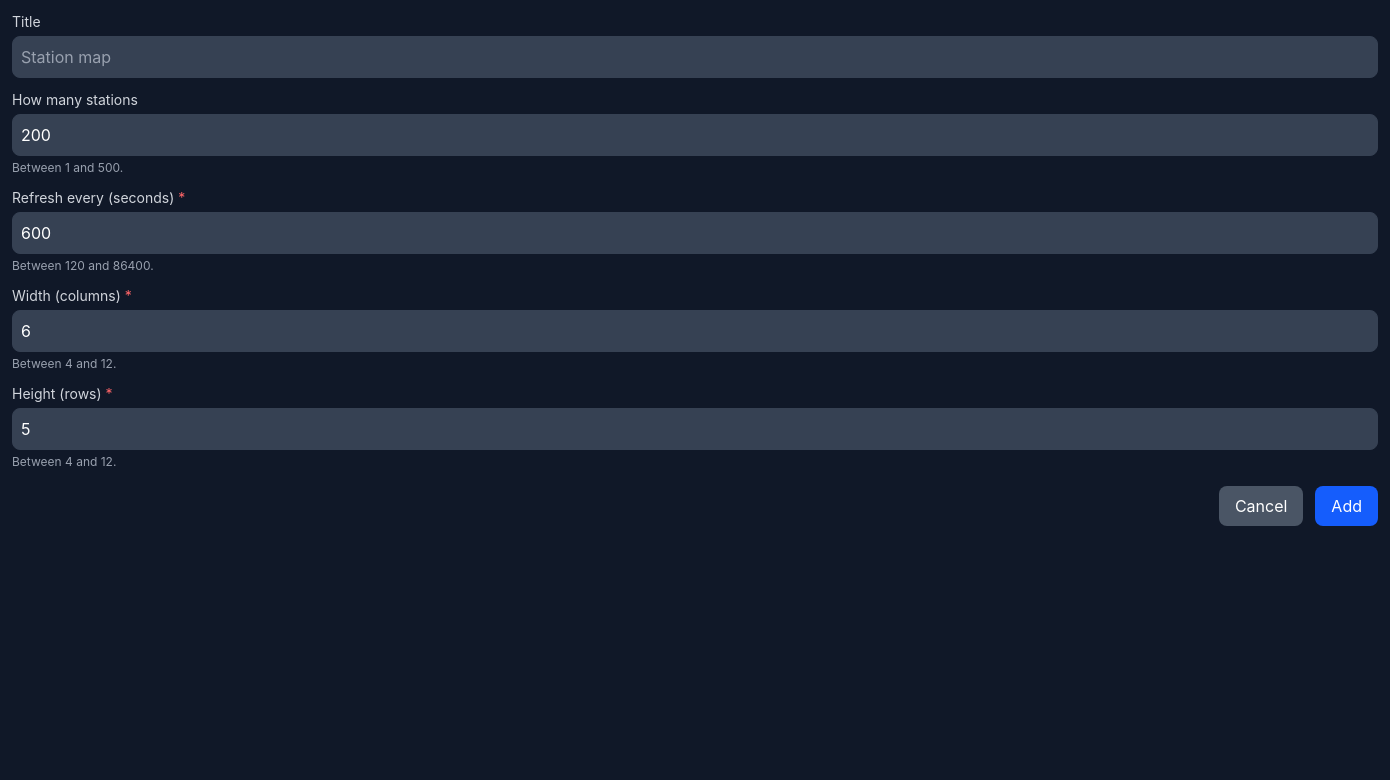
Scenario: refuses a limit of 0
The width and height of the screenshot is (1390, 780).
Replace the text in the number field labelled "How many stations" with "0" at coordinates (695, 135), box [12,114,1378,156]
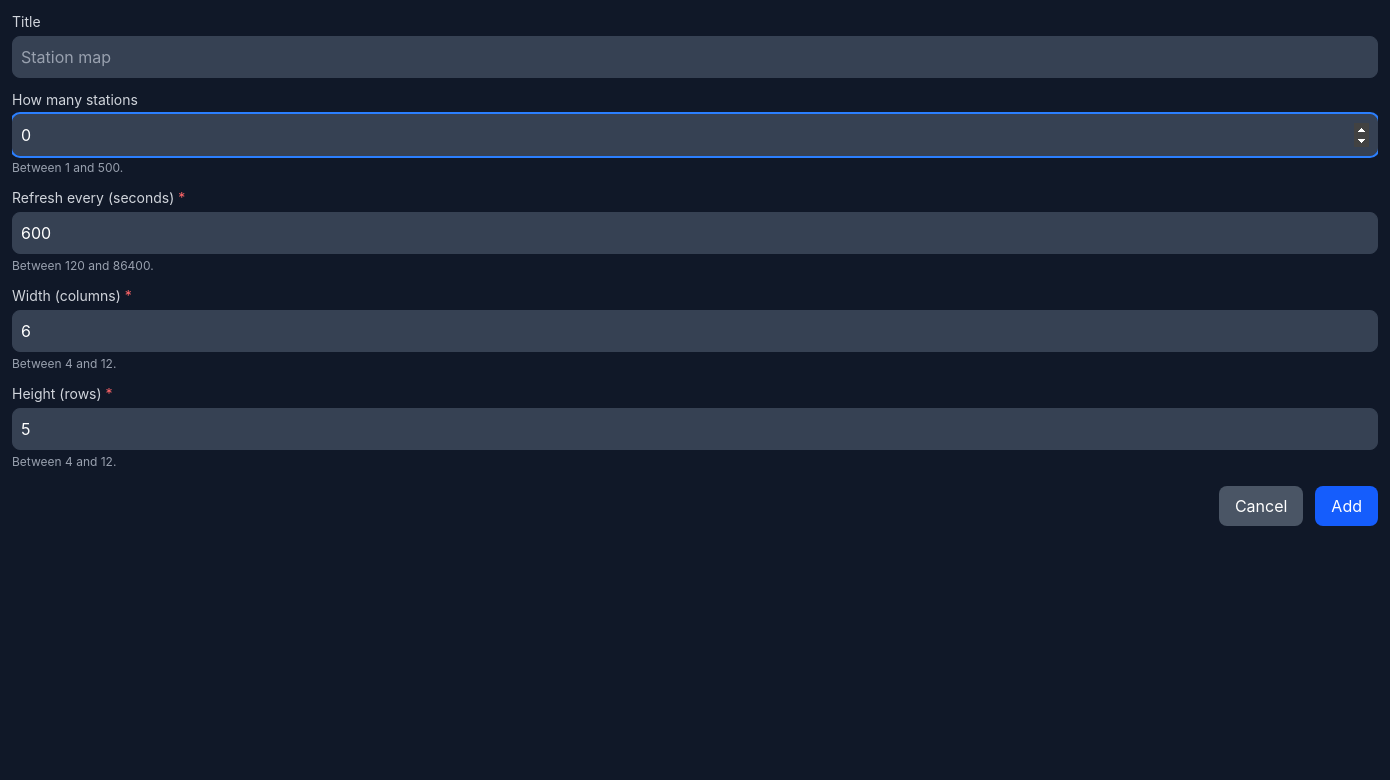
Click the button "Add" at coordinates (1347, 506), box [1315,486,1378,526]
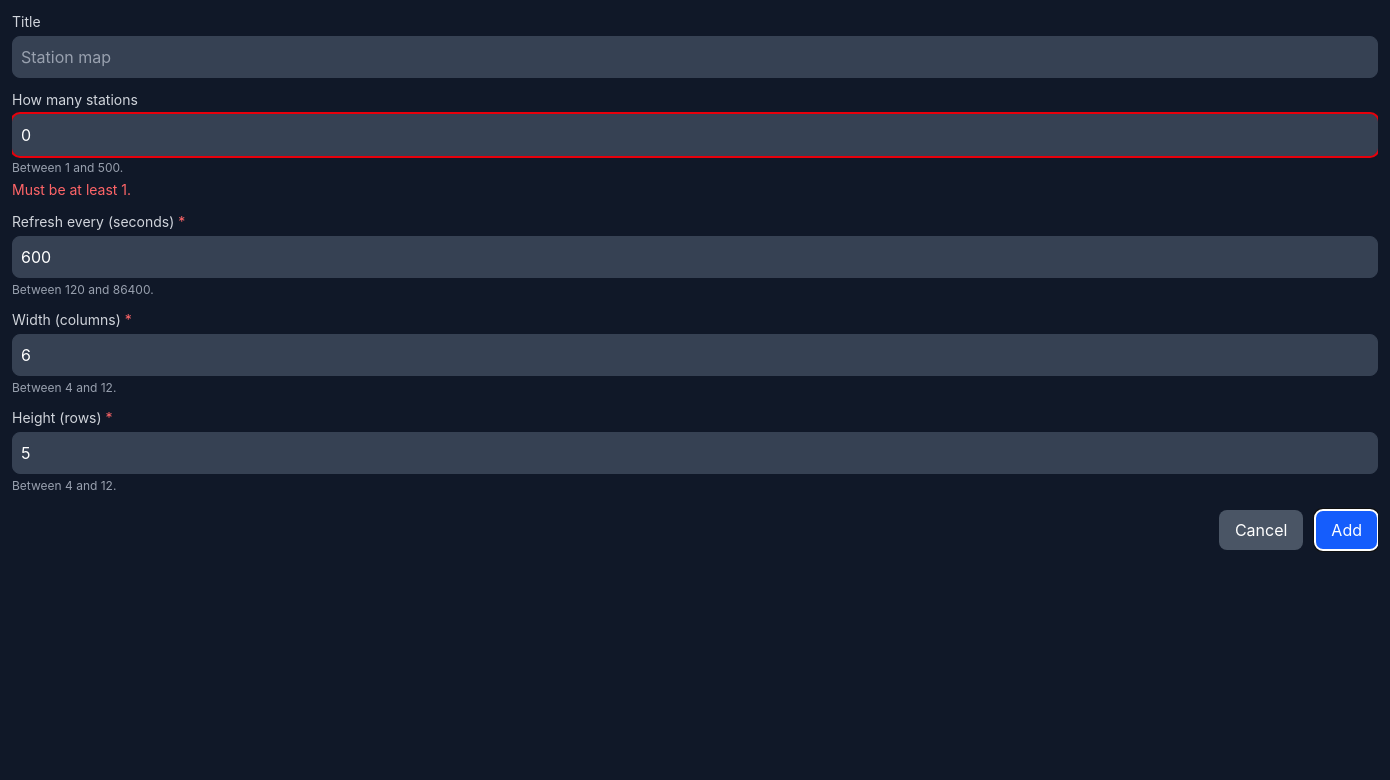
Expected: the text "Must be at least 1." is shown, [12,181,131,198]
